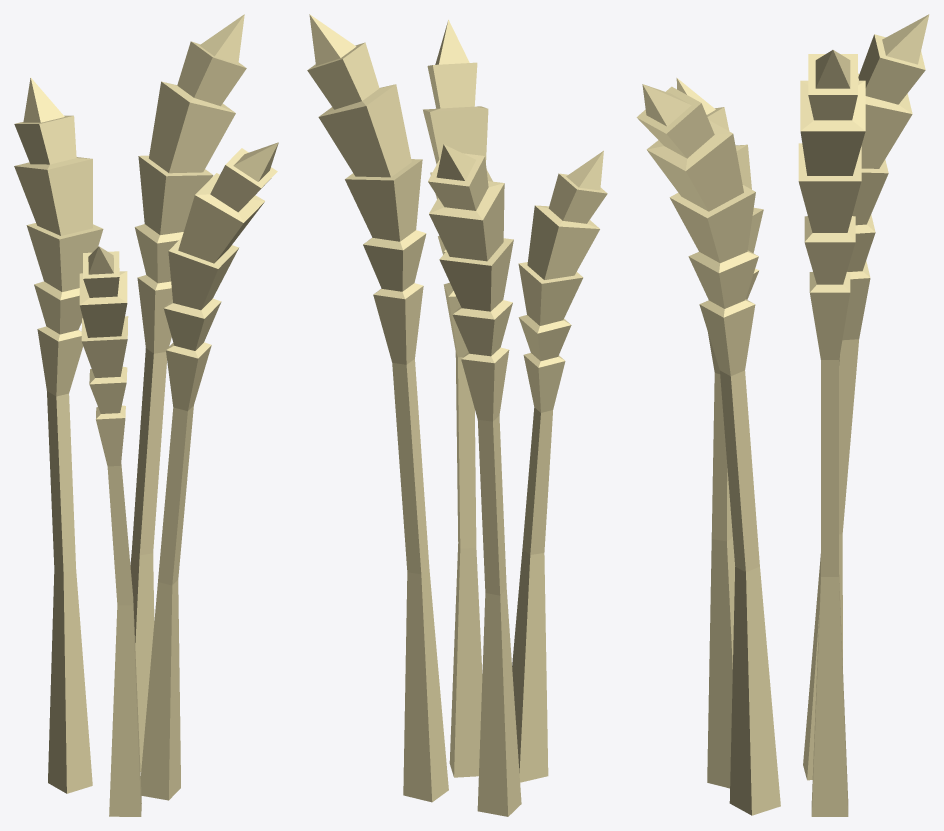
File: fruit_seed.glb
3 renders of one model, left to right at view 1: azimuth 30°, elevation 25°; view 2: azimuth 150°, elevation 25°; view 3: azimuth 270°, elevation 25°, orthographic. The views are drawn at different scales.
Visible parts, largest first — view 1: Wheat; view 2: Wheat; view 3: Wheat.
Part boxes in pixels (x1=…): Wheat: x1=14, y1=14, x2=278, y2=816; Wheat: x1=307, y1=14, x2=607, y2=816; Wheat: x1=636, y1=14, x2=929, y2=816.
Bounding box in the file's own units: 51.94 × 160 × 51.75.
